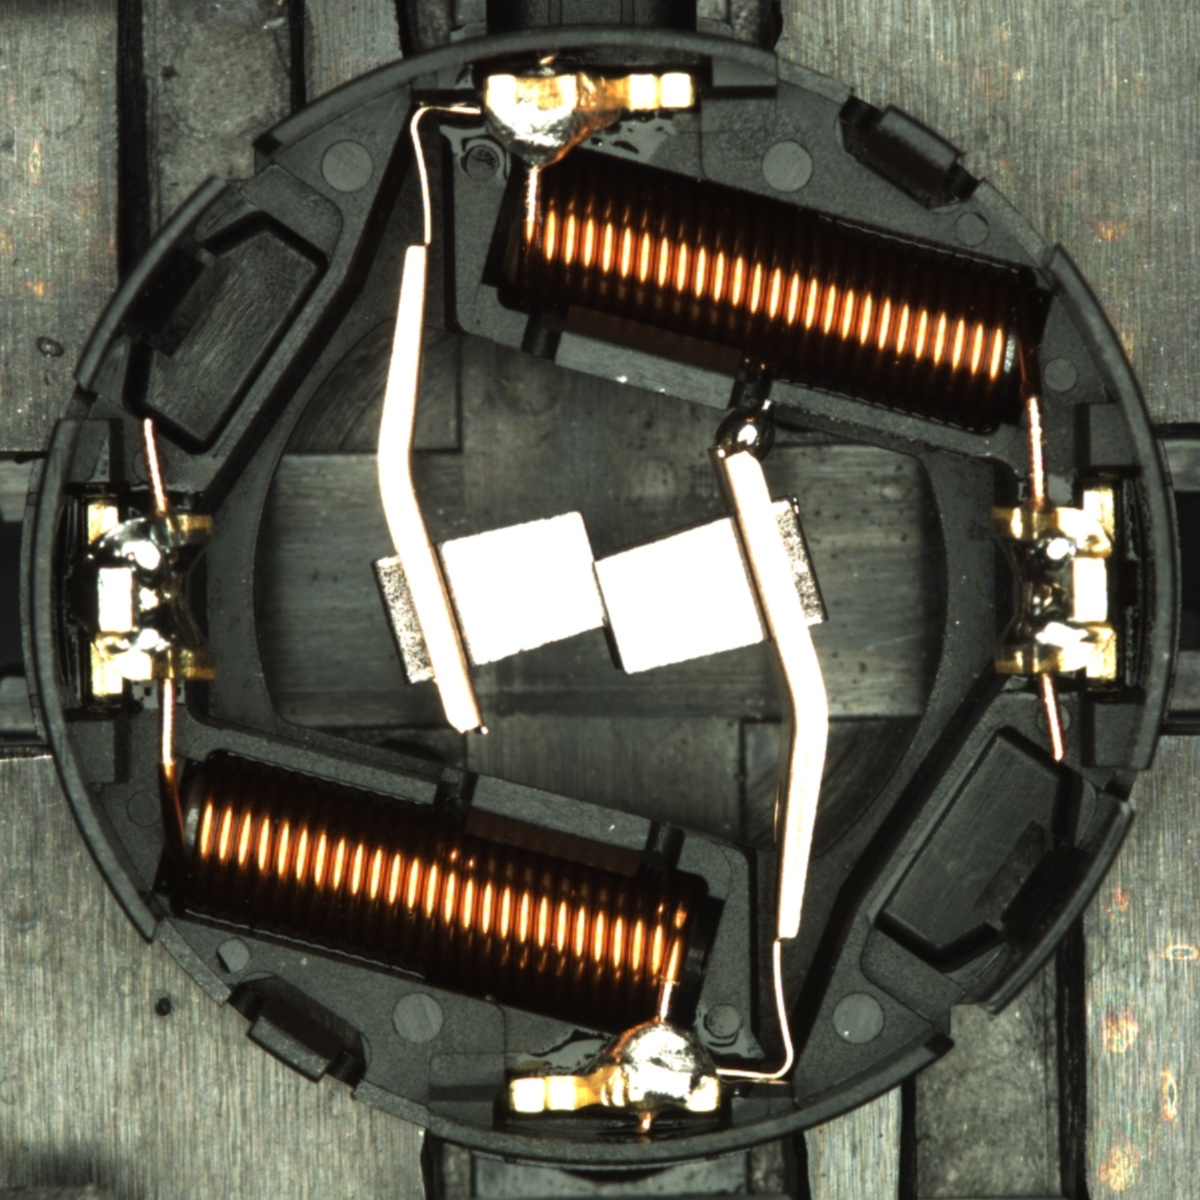1: (711, 927, 940, 1153), (253, 31, 482, 255)
2: (253, 927, 482, 1153), (711, 31, 940, 255)
3: (23, 255, 253, 479), (940, 704, 1170, 927)
4: (253, 255, 482, 479), (711, 704, 940, 927)
5: (482, 143, 711, 367), (482, 816, 711, 1040)
6: (253, 704, 482, 927)
7: (940, 255, 1170, 479), (23, 704, 253, 927)
cacbon: (392, 498, 801, 685)
chau_dien: (80, 497, 221, 699), (984, 488, 1123, 686)
hat_chi: (712, 400, 775, 463)
tay_choi: (481, 71, 699, 173), (508, 1016, 722, 1116)
thanh_de: (954, 786, 1142, 1030), (60, 164, 246, 404)
